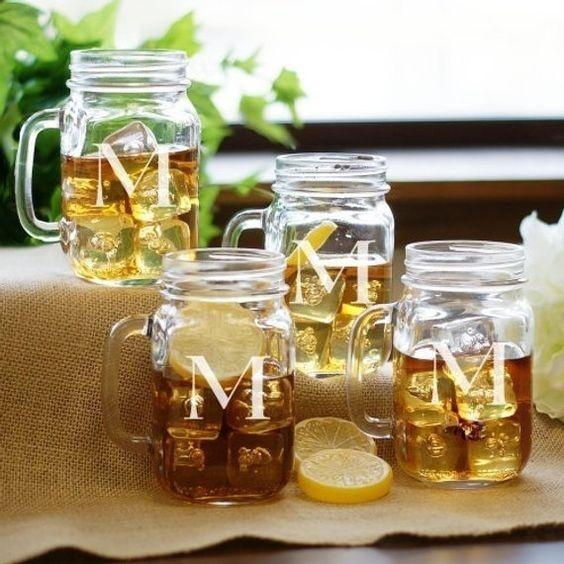glass-mug: (96, 242, 298, 508), (344, 235, 536, 491), (10, 45, 202, 287), (221, 148, 397, 389)
